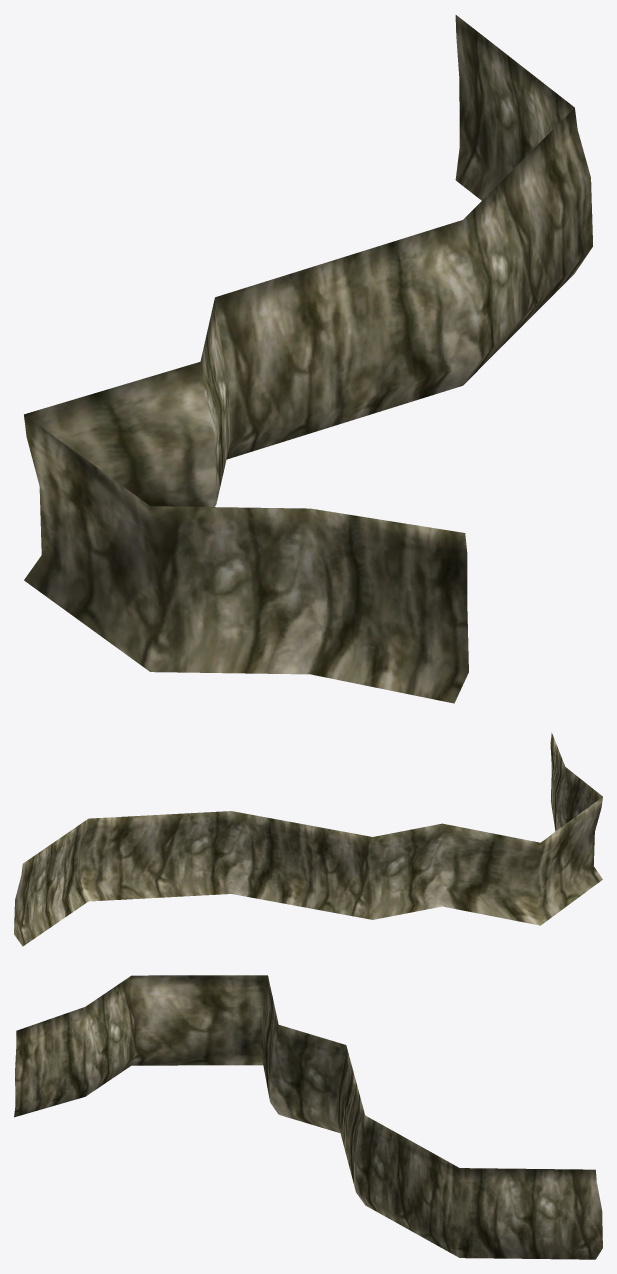
The model's file is CB_NEWPLAYSURFACE_CB_PLAYSURFACE119.fbx.
3 renders of one model, top to bottom at view 1: azimuth 30°, elevation 25°; view 2: azimuth 150°, elevation 25°; view 3: azimuth 270°, elevation 25°, orthographic. The views are drawn at different scales.
Visible parts, largest first — view 1: CB_NEWPLAYSURFACE_CB_PLAYSURFACE119; view 2: CB_NEWPLAYSURFACE_CB_PLAYSURFACE119; view 3: CB_NEWPLAYSURFACE_CB_PLAYSURFACE119.
Boxes of the visible parts, x1,y1,x2,y2 form: CB_NEWPLAYSURFACE_CB_PLAYSURFACE119: (24, 15, 592, 703); CB_NEWPLAYSURFACE_CB_PLAYSURFACE119: (14, 732, 602, 946); CB_NEWPLAYSURFACE_CB_PLAYSURFACE119: (14, 975, 602, 1259).
Size of the model in its own units: 187882 by 40000 by 237125.
Materials: 1 (1 with a texture image).
